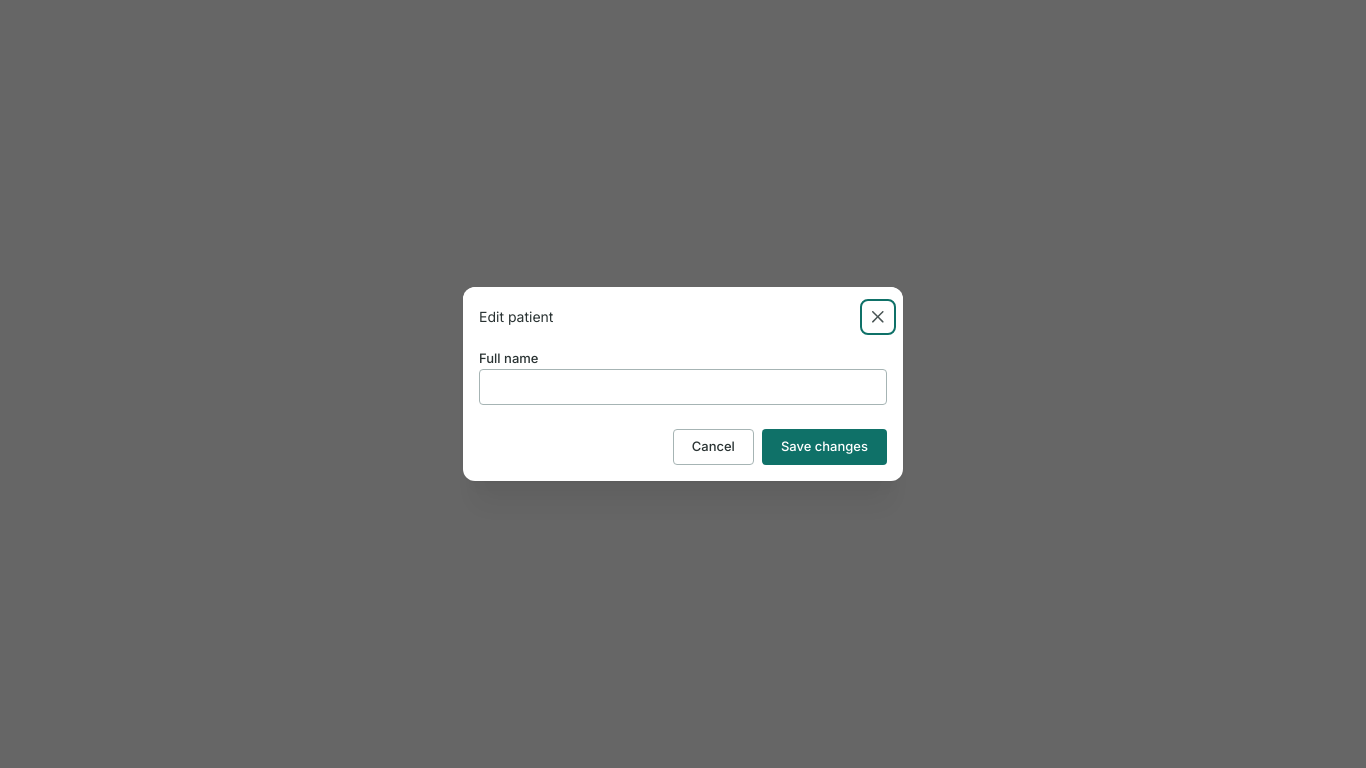
FormDialog › guards a dirty form instead of closing it
Click the button "Cancel" at (713, 447), box [673, 429, 754, 465]
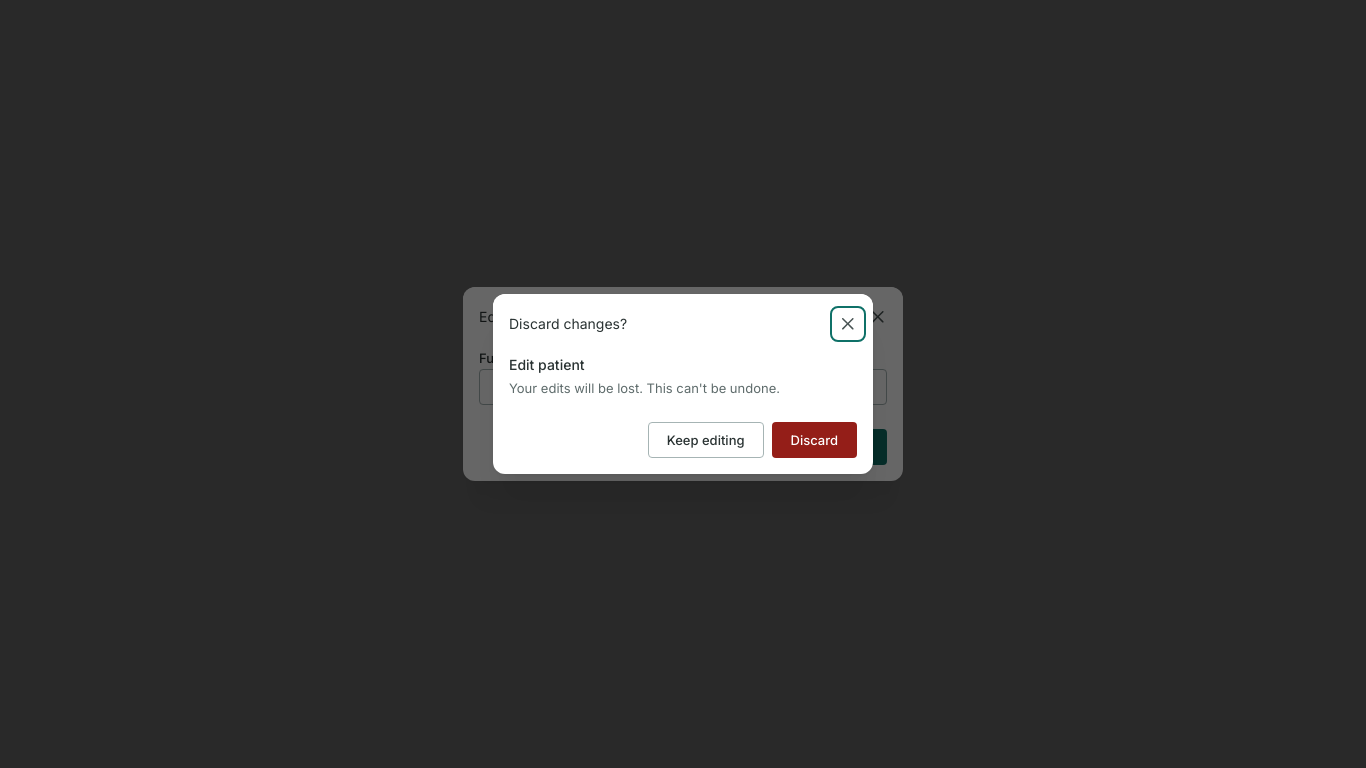
Expected: the heading "Discard changes?" is shown, [509, 317, 627, 331]
